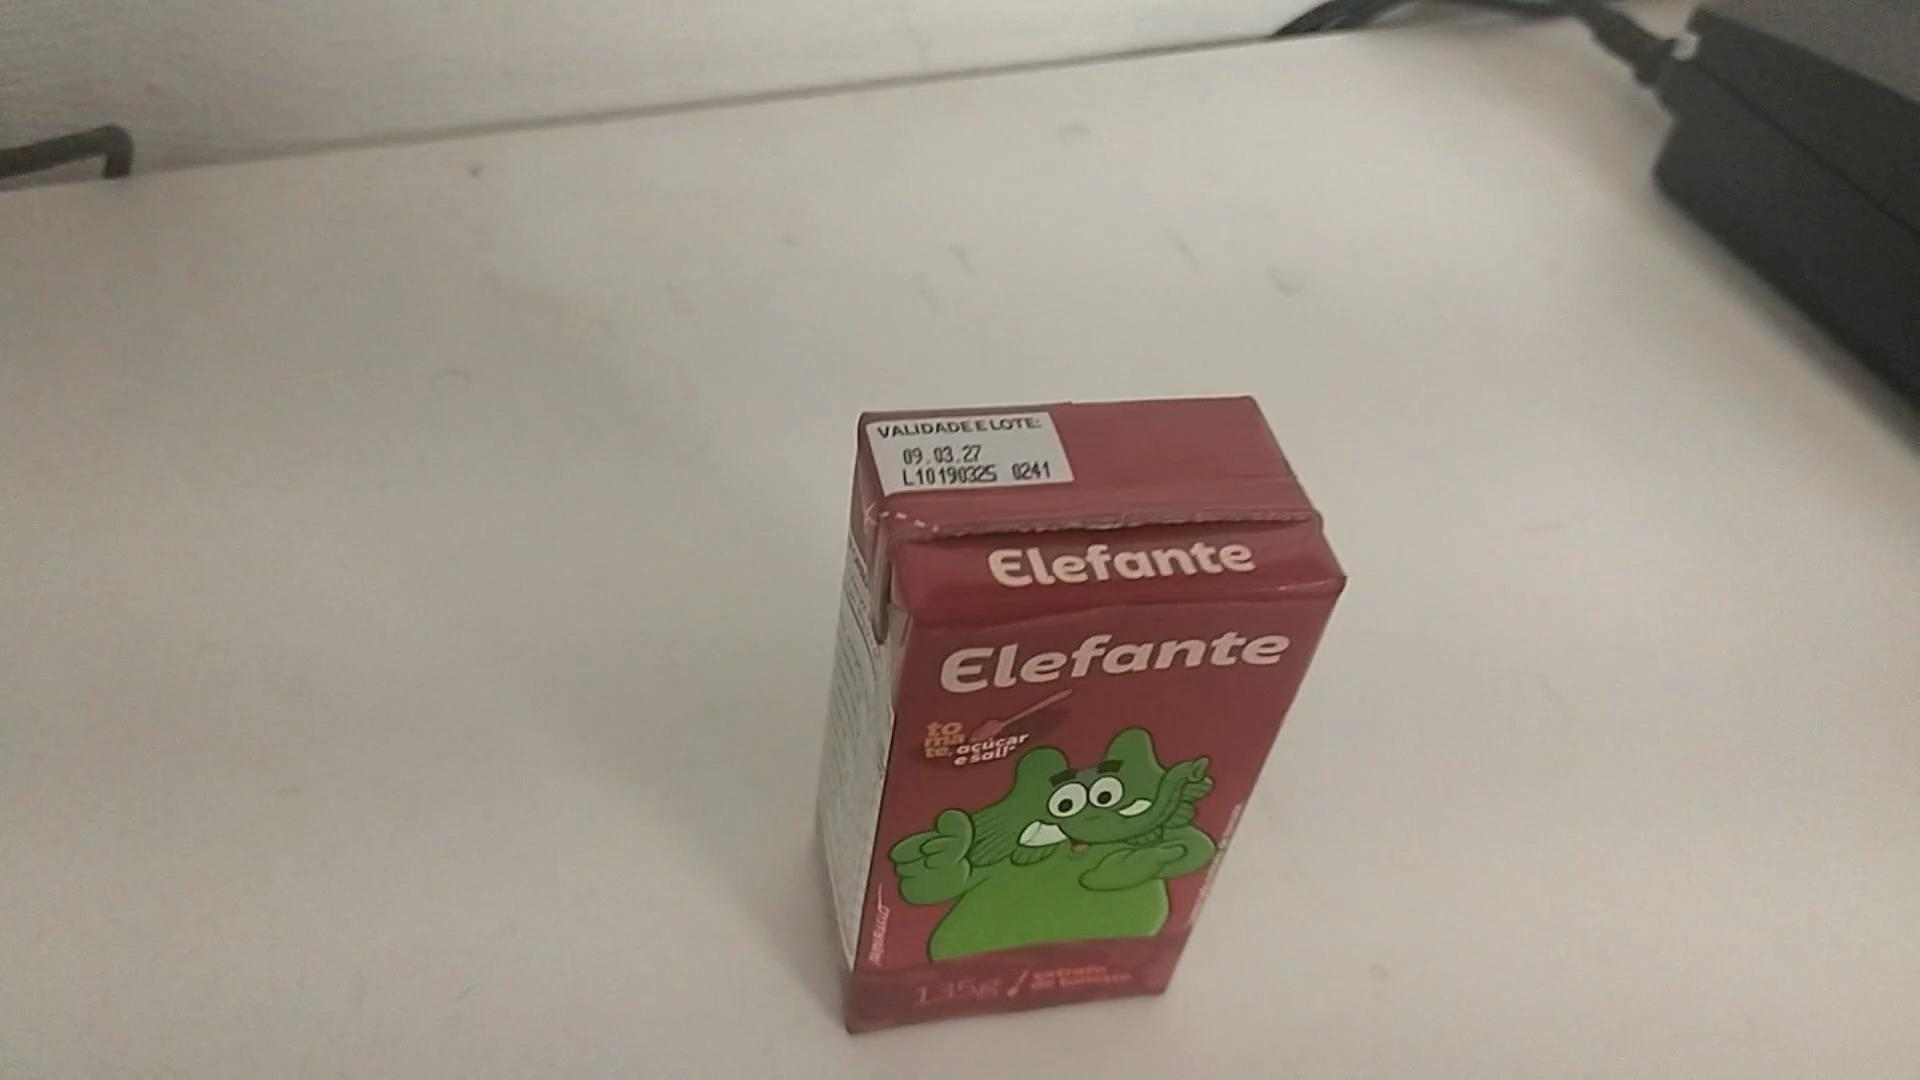tomate: (822, 394, 1349, 1033)
